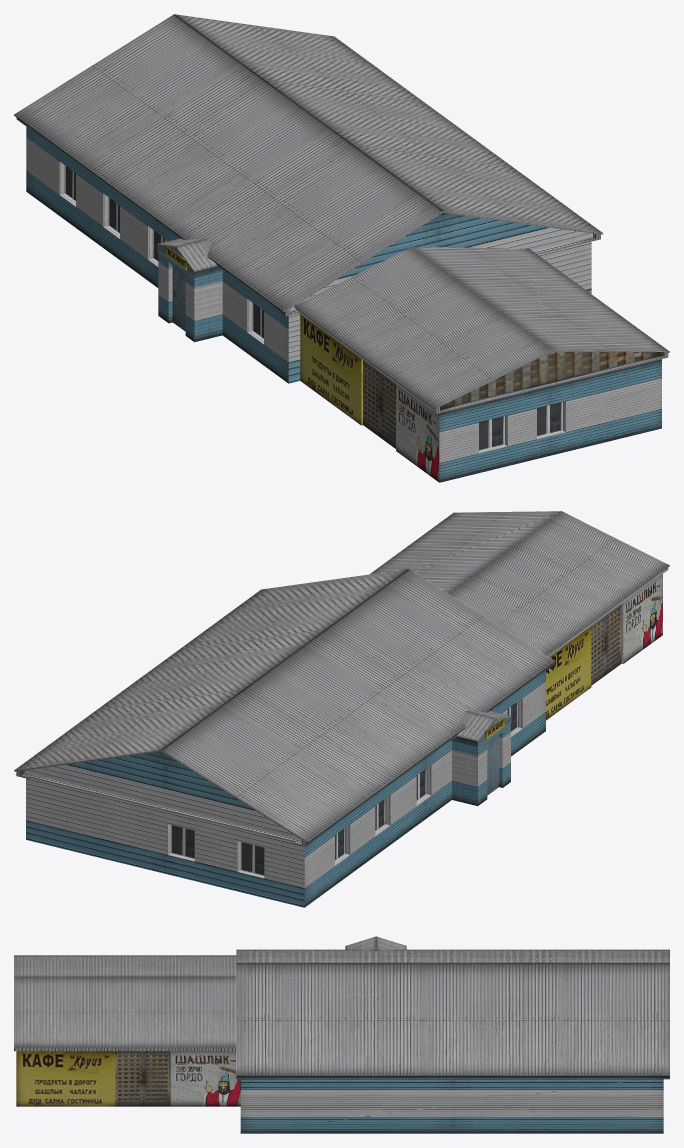
The model's file is e30_kafe_kruiz.FBX.
3 renders of one model, top to bottom at view 1: azimuth 30°, elevation 25°; view 2: azimuth 150°, elevation 25°; view 3: azimuth 270°, elevation 25°, orthographic. The views are drawn at different scales.
Parts seen in each view (by area): view 1: e30_kafe_kruiz; view 2: e30_kafe_kruiz; view 3: e30_kafe_kruiz.
Part boxes in pixels (x1,y1,x2,y2): e30_kafe_kruiz: (14,14,669,482); e30_kafe_kruiz: (14,511,669,907); e30_kafe_kruiz: (14,936,669,1133).
Bounding box in the file's own units: 11.71 × 24.2 × 4.51.
